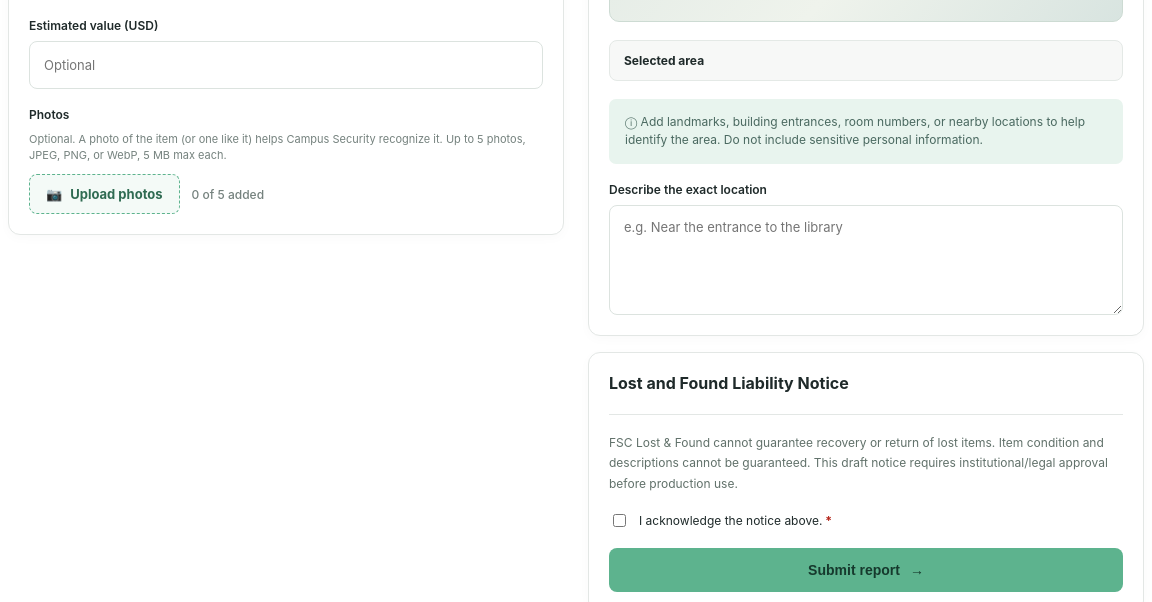
it: ReportPage › clears an error once the field is fixed
(page scrolled)
Click the button "Submit report →": [866, 570] box x1=609 y1=548 x2=1123 y2=592
(page scrolled)
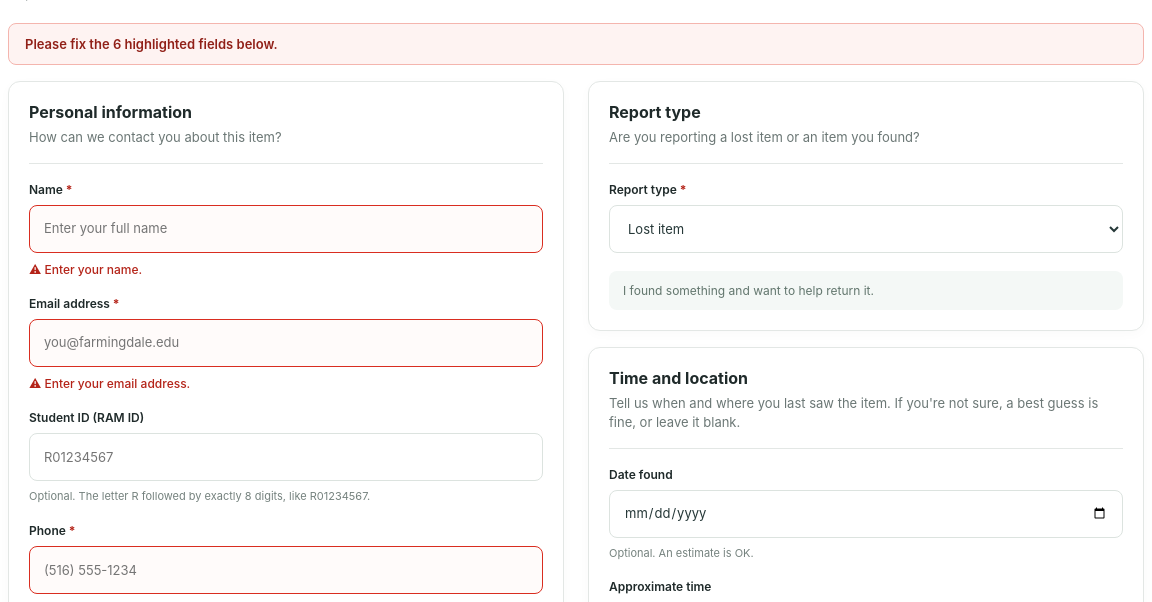
Now the text "Enter your name." is shown, box x1=44 y1=262 x2=142 y2=276
In the field labelled "Name * Enter your name.": [286, 228] box x1=29 y1=204 x2=543 y2=252, type "Matthew Quintanilla"
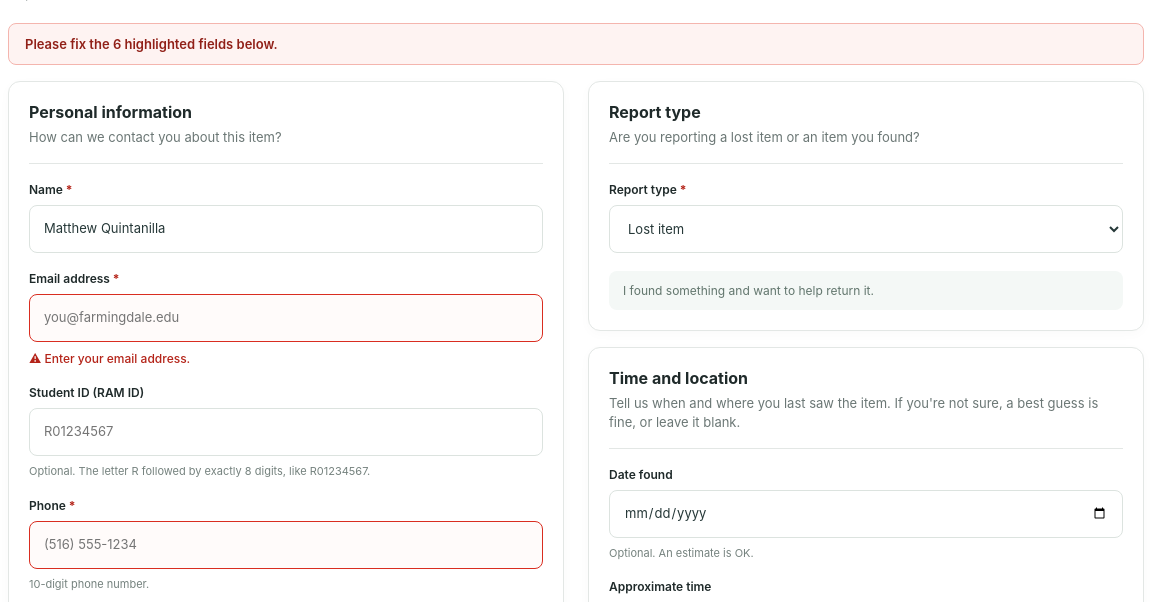
Now the text "Enter your name." is gone
